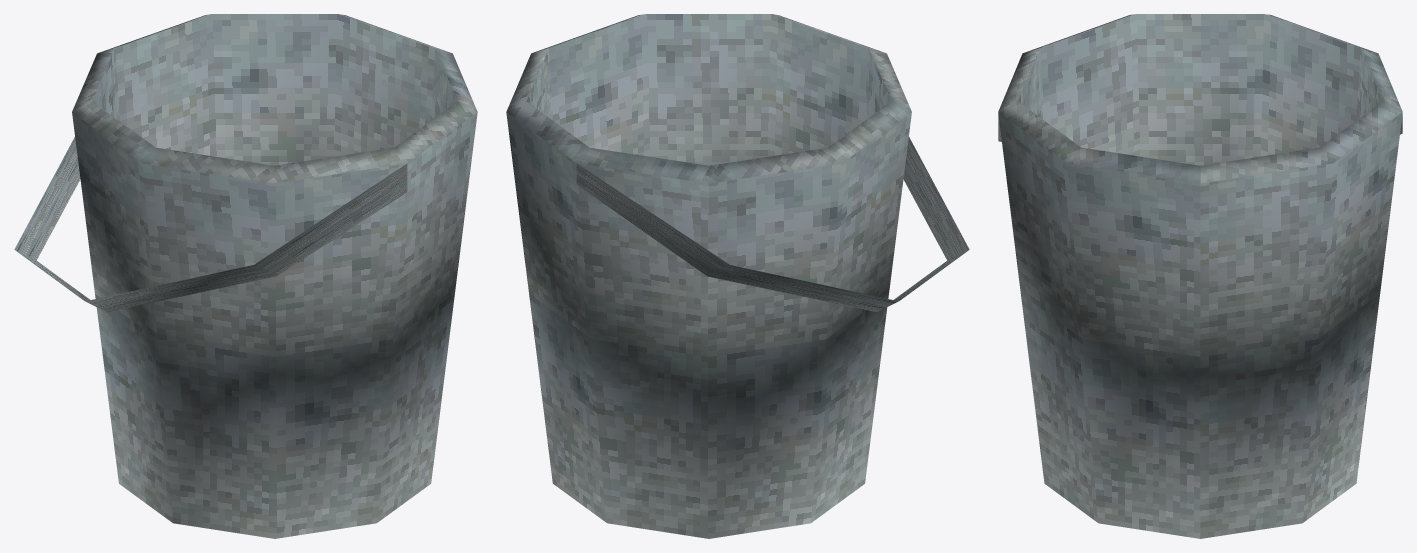
The model's file is Bucket.glb.
3 renders of one model, left to right at view 1: azimuth 30°, elevation 25°; view 2: azimuth 150°, elevation 25°; view 3: azimuth 270°, elevation 25°, orthographic.
Parts seen in each view (by area): view 1: BUCKET; view 2: BUCKET; view 3: BUCKET.
Boxes of the visible parts, x1=… form: BUCKET: x1=14, y1=14, x2=477, y2=538; BUCKET: x1=506, y1=14, x2=969, y2=538; BUCKET: x1=998, y1=14, x2=1402, y2=538.
Bounding box in the file's own units: 0.594 × 0.541 × 0.516.
Materials: 1 (1 with a texture image).
